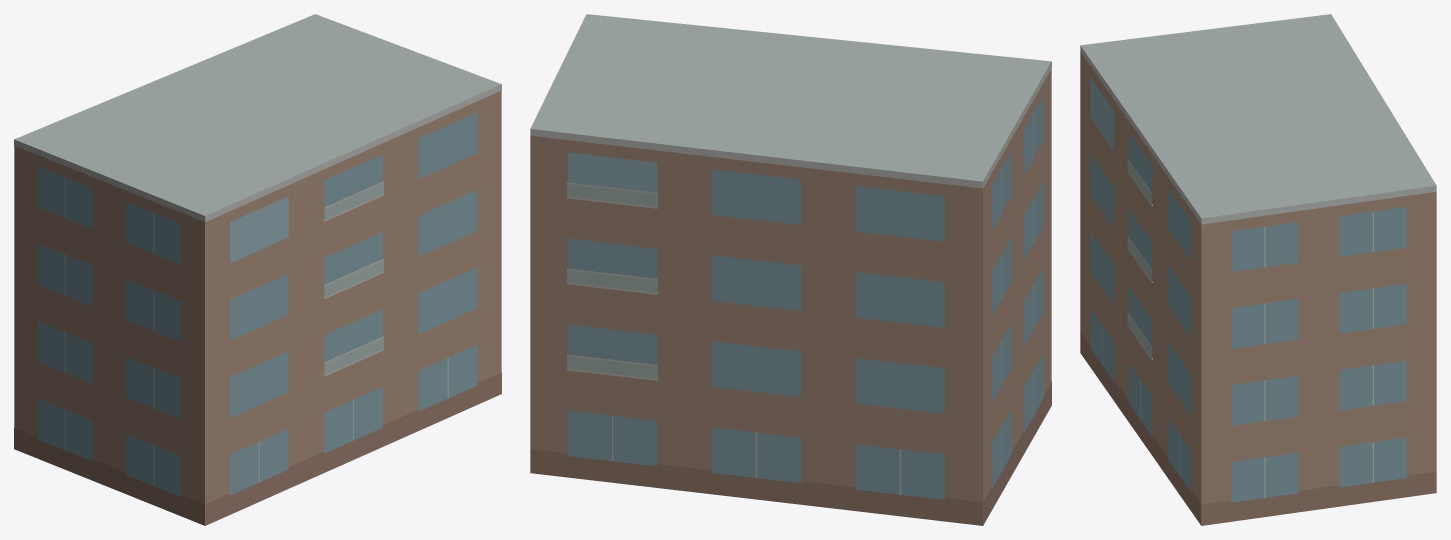
Rendered from survey-upis-32647647.glb.
The picture shows the model from 3 angles, left to right: view 1: azimuth 30°, elevation 25°; view 2: azimuth 150°, elevation 25°; view 3: azimuth 270°, elevation 25°; orthographic projection. The views are drawn at different scales.
Visible parts, largest first — view 1: survey-upis-32647647.tmp; view 2: survey-upis-32647647.tmp; view 3: survey-upis-32647647.tmp.
Part boxes in pixels (<box>): survey-upis-32647647.tmp: <box>14,14,501,525</box>; survey-upis-32647647.tmp: <box>530,14,1051,525</box>; survey-upis-32647647.tmp: <box>1080,14,1436,525</box>.
Size of the model in its own units: 17.41 by 12.2 by 12.83.
